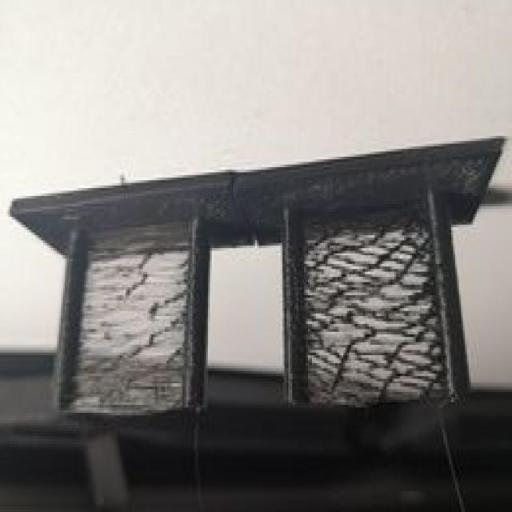stringing: (290, 209, 446, 408), (69, 224, 193, 418)
